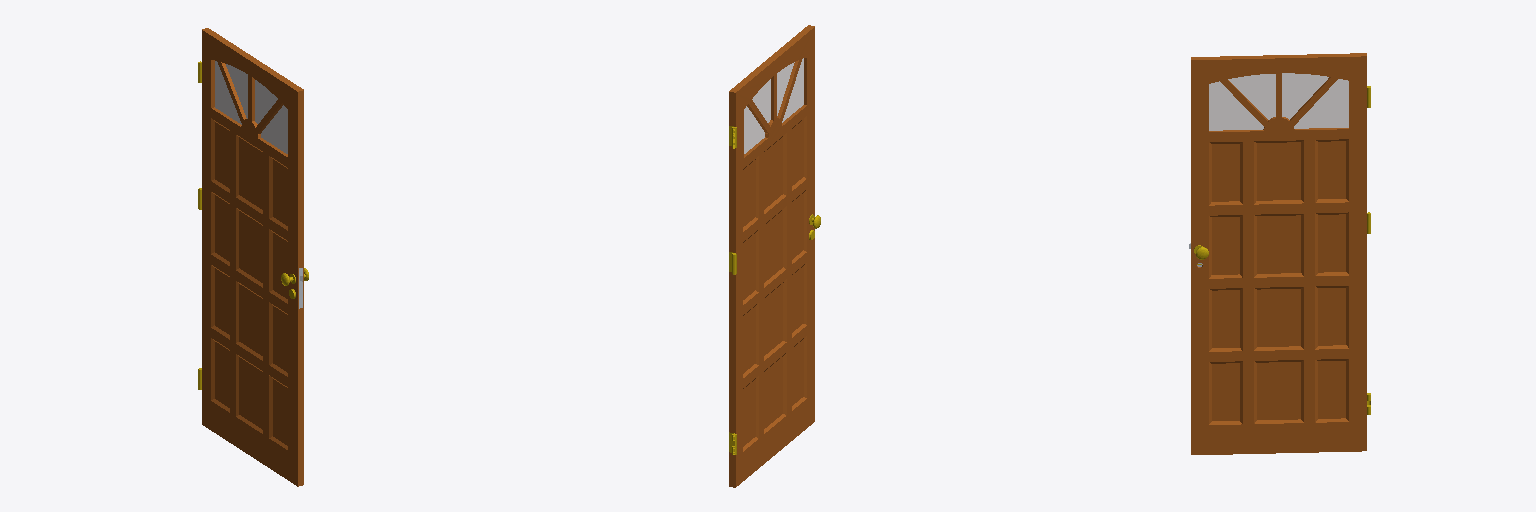
Rendered from puerta.obj.
3 renders of one model, left to right at view 1: azimuth 30°, elevation 25°; view 2: azimuth 150°, elevation 25°; view 3: azimuth 270°, elevation 25°, orthographic.
Visible parts, largest first — view 1: Mesh1 Model; view 2: Mesh1 Model; view 3: Mesh1 Model.
Boxes of the visible parts, x1,y1,x2,y2 form: Mesh1 Model: [198, 28, 305, 486]; Mesh1 Model: [729, 25, 814, 487]; Mesh1 Model: [1189, 53, 1370, 454].
Size of the model in its own units: 0.1323 by 1.96 by 0.8218.